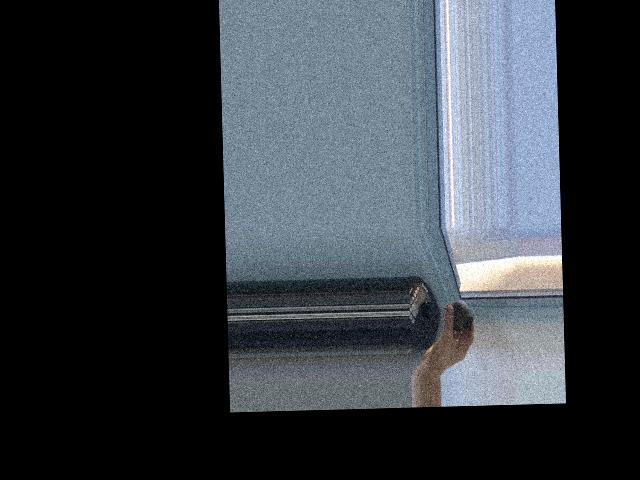beet: (442, 299, 473, 334)
